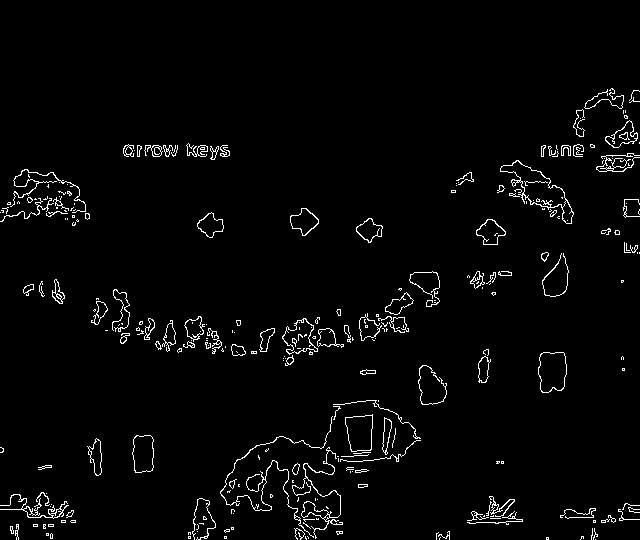rune_box: (127, 181, 543, 284)
